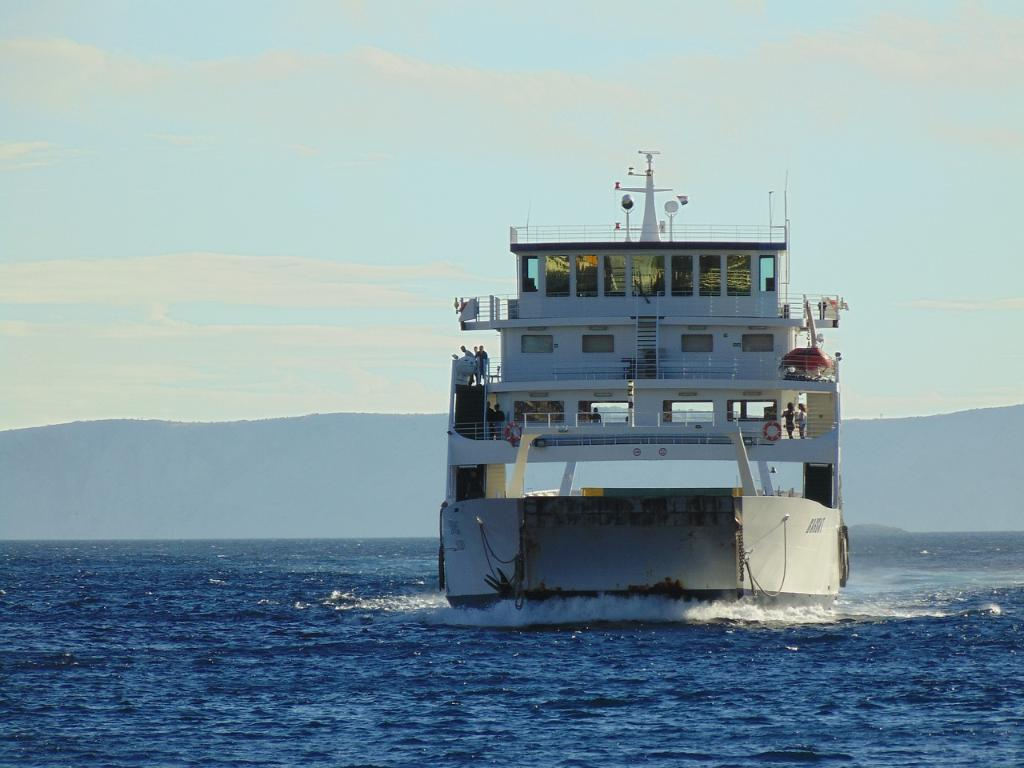PassengerShip: (438, 146, 858, 628)
